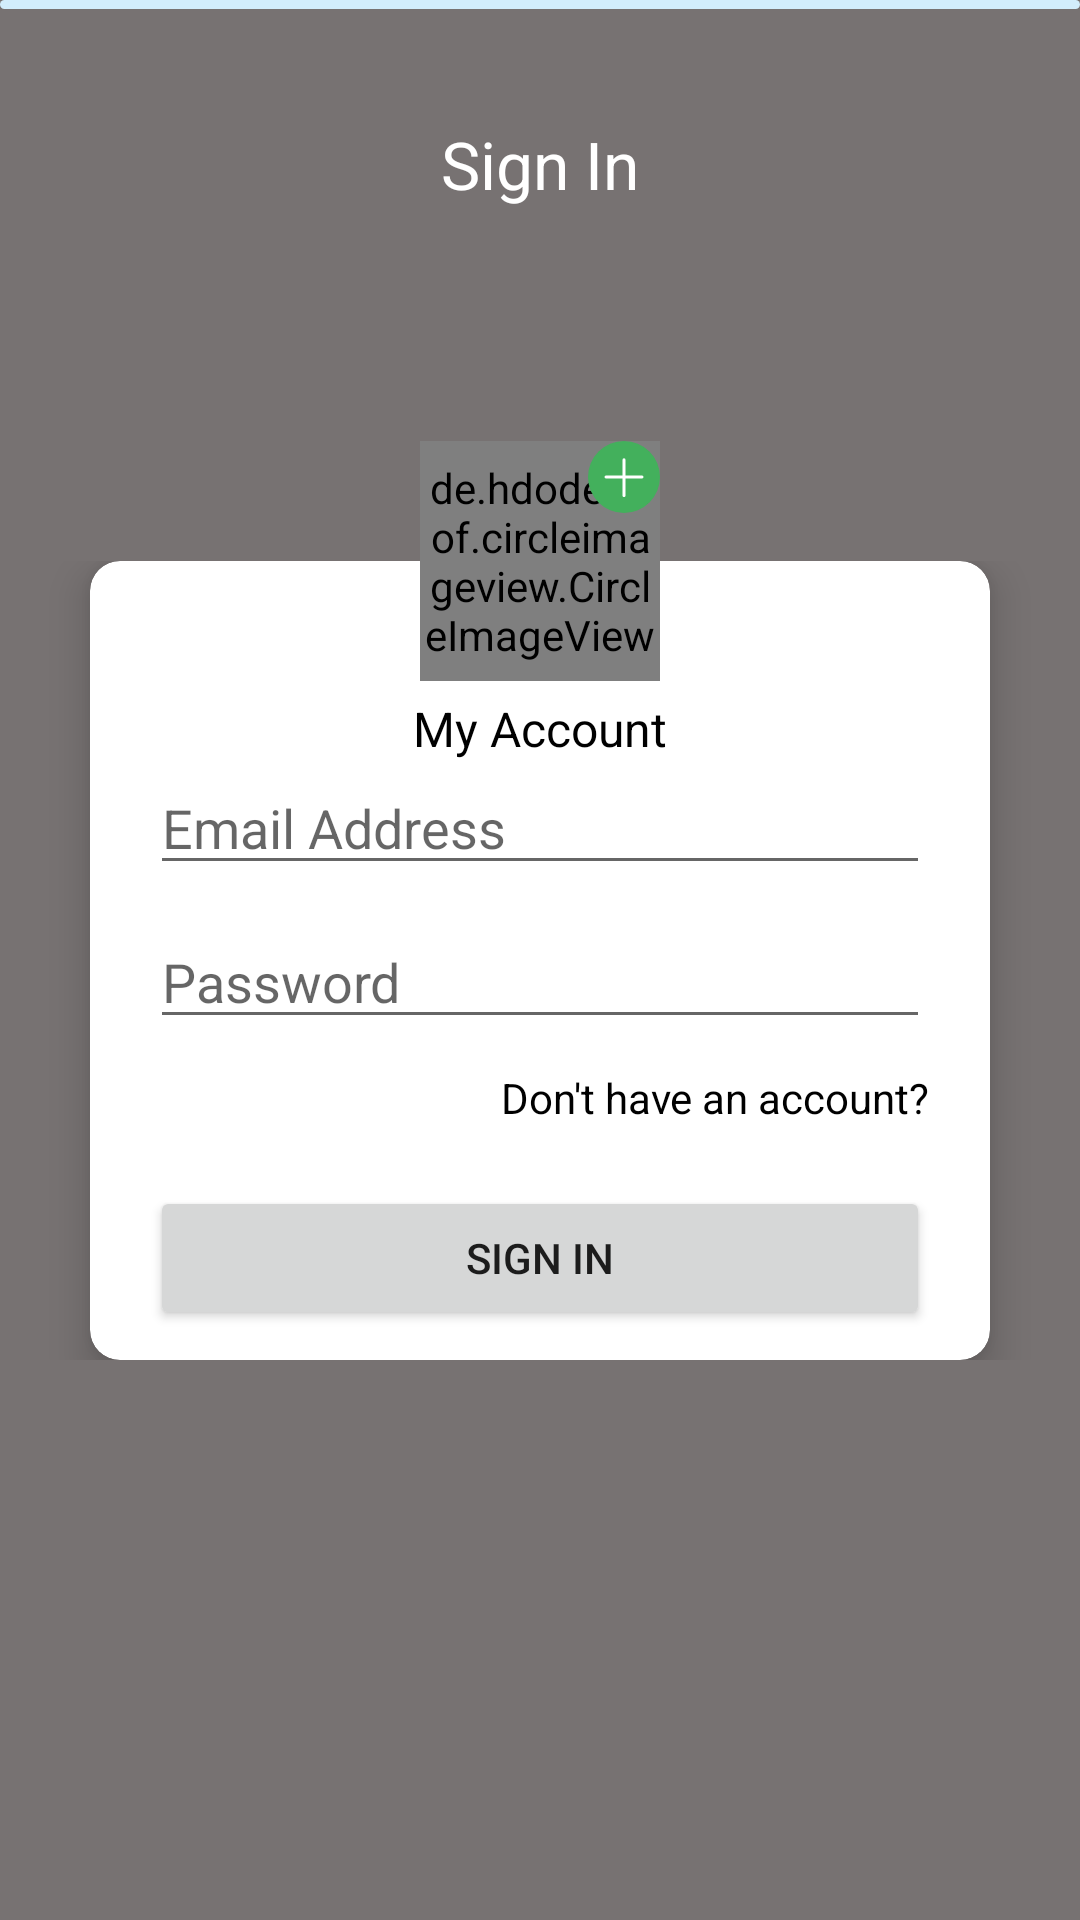

Screen size 1080*1920. Icon name, then its box in pixels as box(x1, y1, x2, y2):
plus: box(588, 441, 660, 513)
